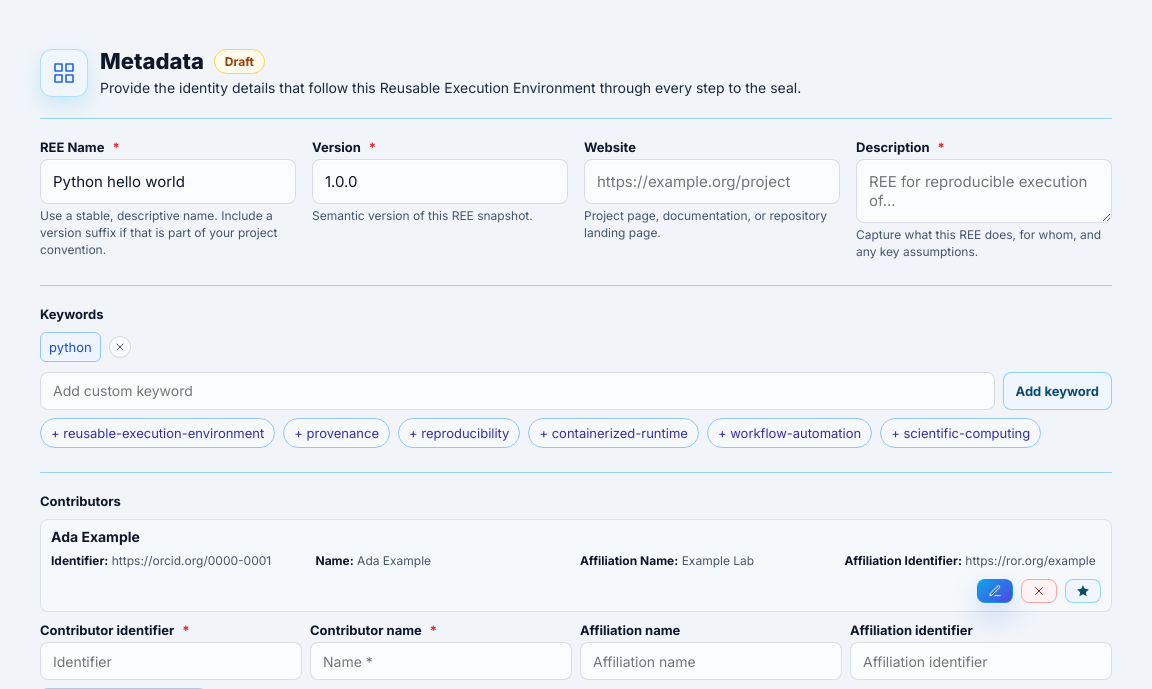
Test: major step page workflows › edits catalog metadata, keywords, and contributor entities
Replace the text in the field with placeholder "deepfold-protein-structure-prediction" with "Updated REE" at (168, 182), box [40, 159, 296, 204]
Click the button "+ reproducibility".
click(459, 433)  # box [398, 418, 520, 448]
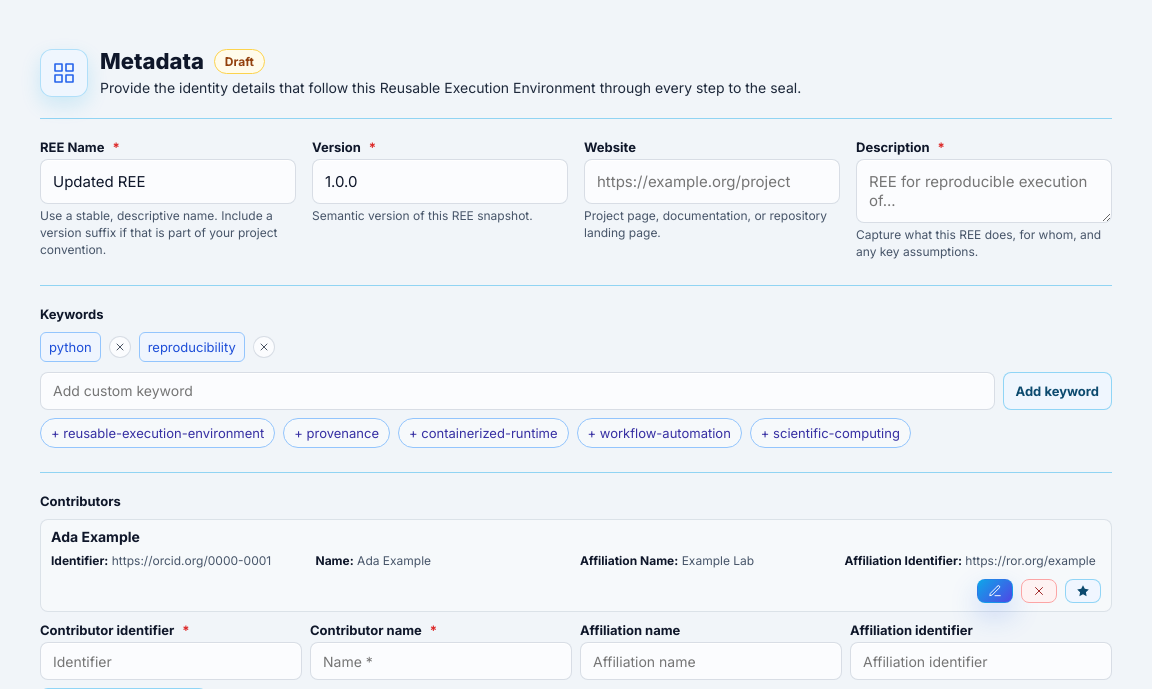
Check: the text "reproducibility" is shown, box [139, 332, 245, 362]
Click the button named "Remove keyword python".
click(120, 347)  # box [109, 336, 131, 358]
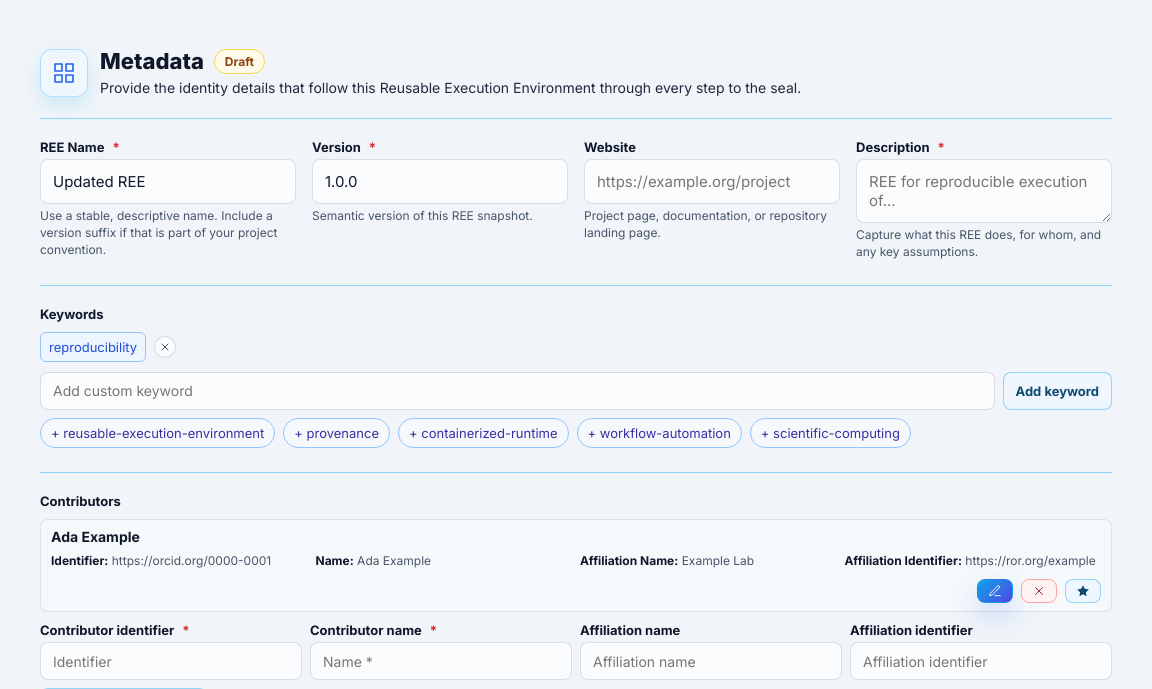
Check: the text "python" is gone
Click the button named "Designate Ada Example as corresponding author".
click(1083, 591)  # box [1065, 579, 1101, 603]
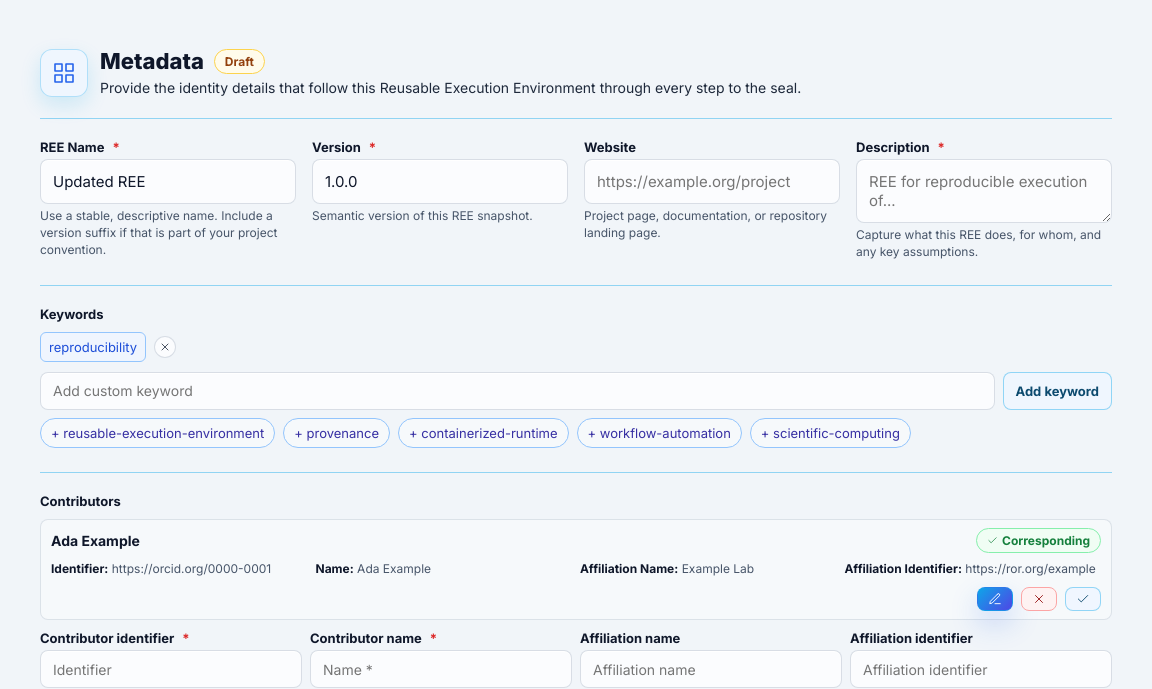
Check: the text "Corresponding" is shown, box [976, 528, 1101, 553]
Click the button named "Edit contributor Ada Example".
click(995, 599)  # box [977, 587, 1013, 611]
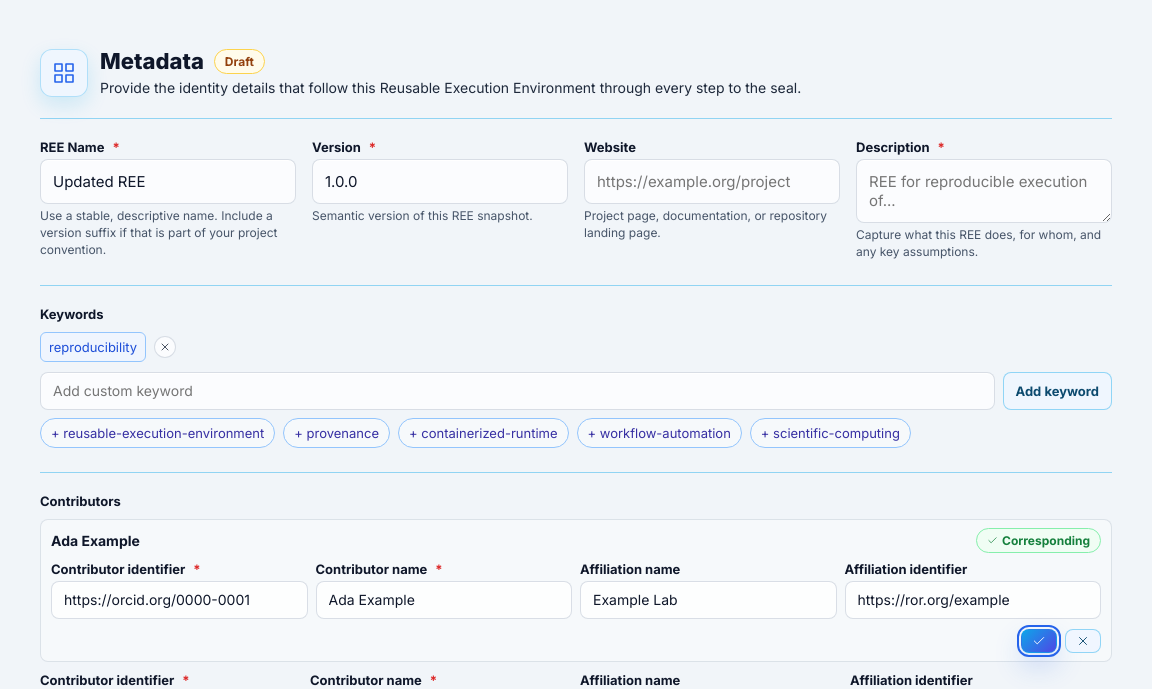
Replace the text in the field with placeholder "name" below "Ada Example" with "Ada Lovelace" at (444, 600), box [316, 581, 572, 619]
Click the button named "Save contributor Ada Example".
click(1039, 641)  # box [1021, 629, 1057, 653]
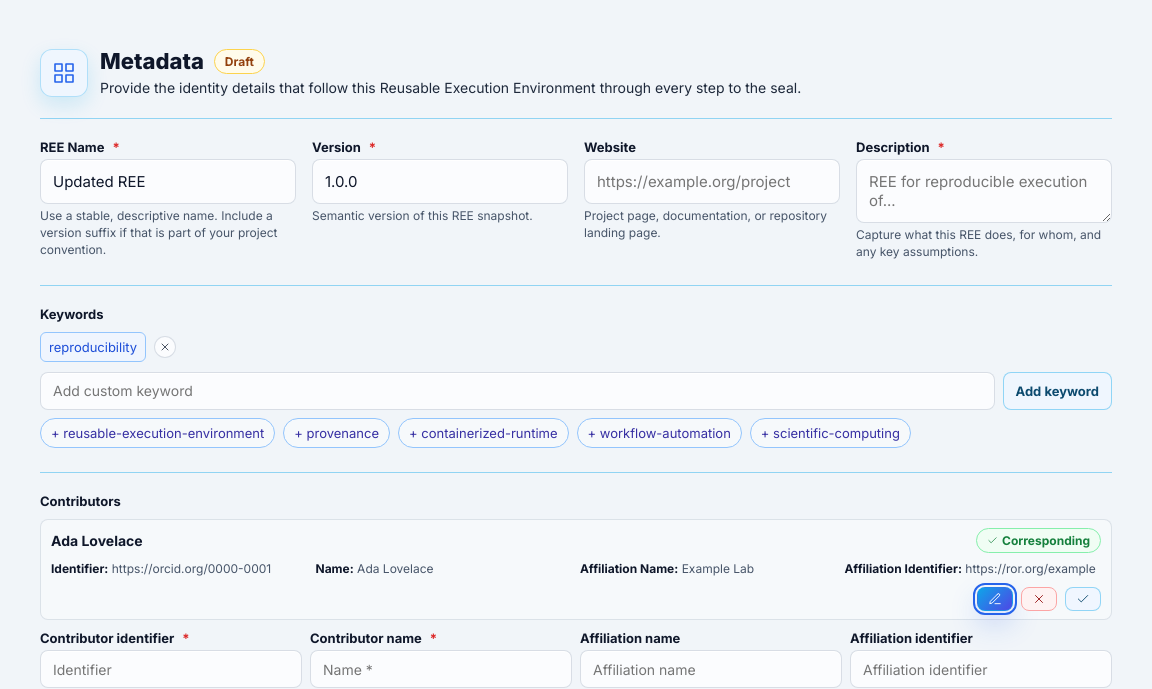
Check: the text "Ada Lovelace" is shown 2 times, box [51, 532, 143, 549]; [316, 561, 434, 576]
Click the button named "Remove contributor Ada Lovelace".
click(1039, 599)  # box [1021, 587, 1057, 611]
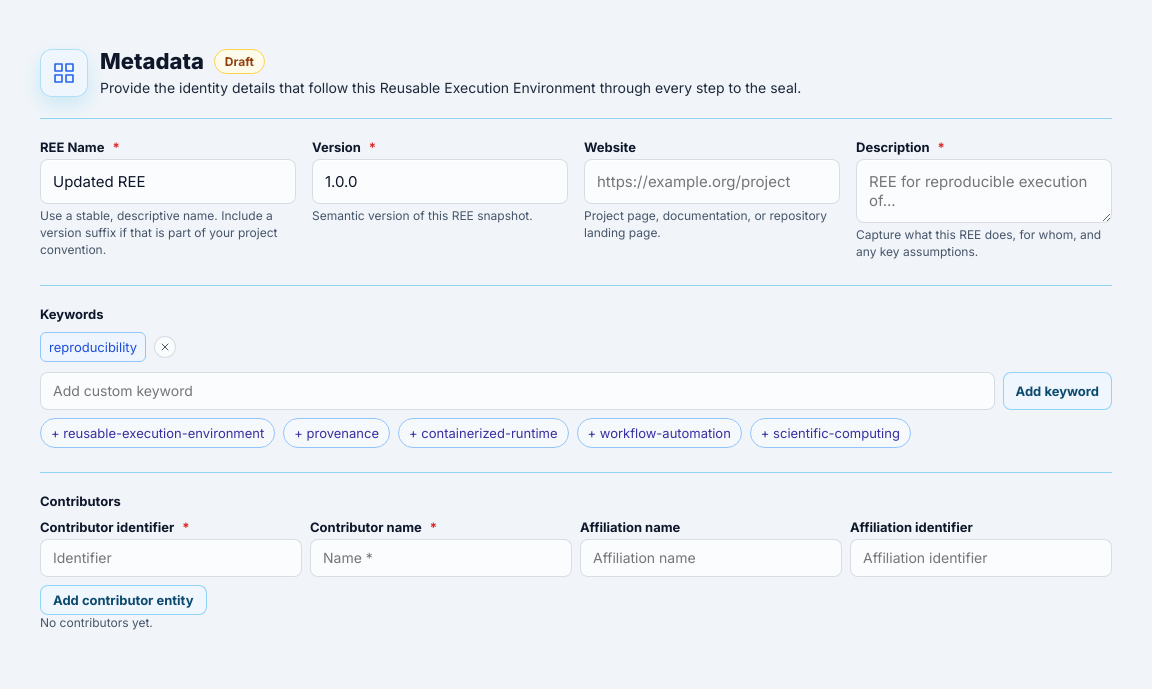
Check: the text "No contributors yet." is shown, box [40, 615, 153, 630]
